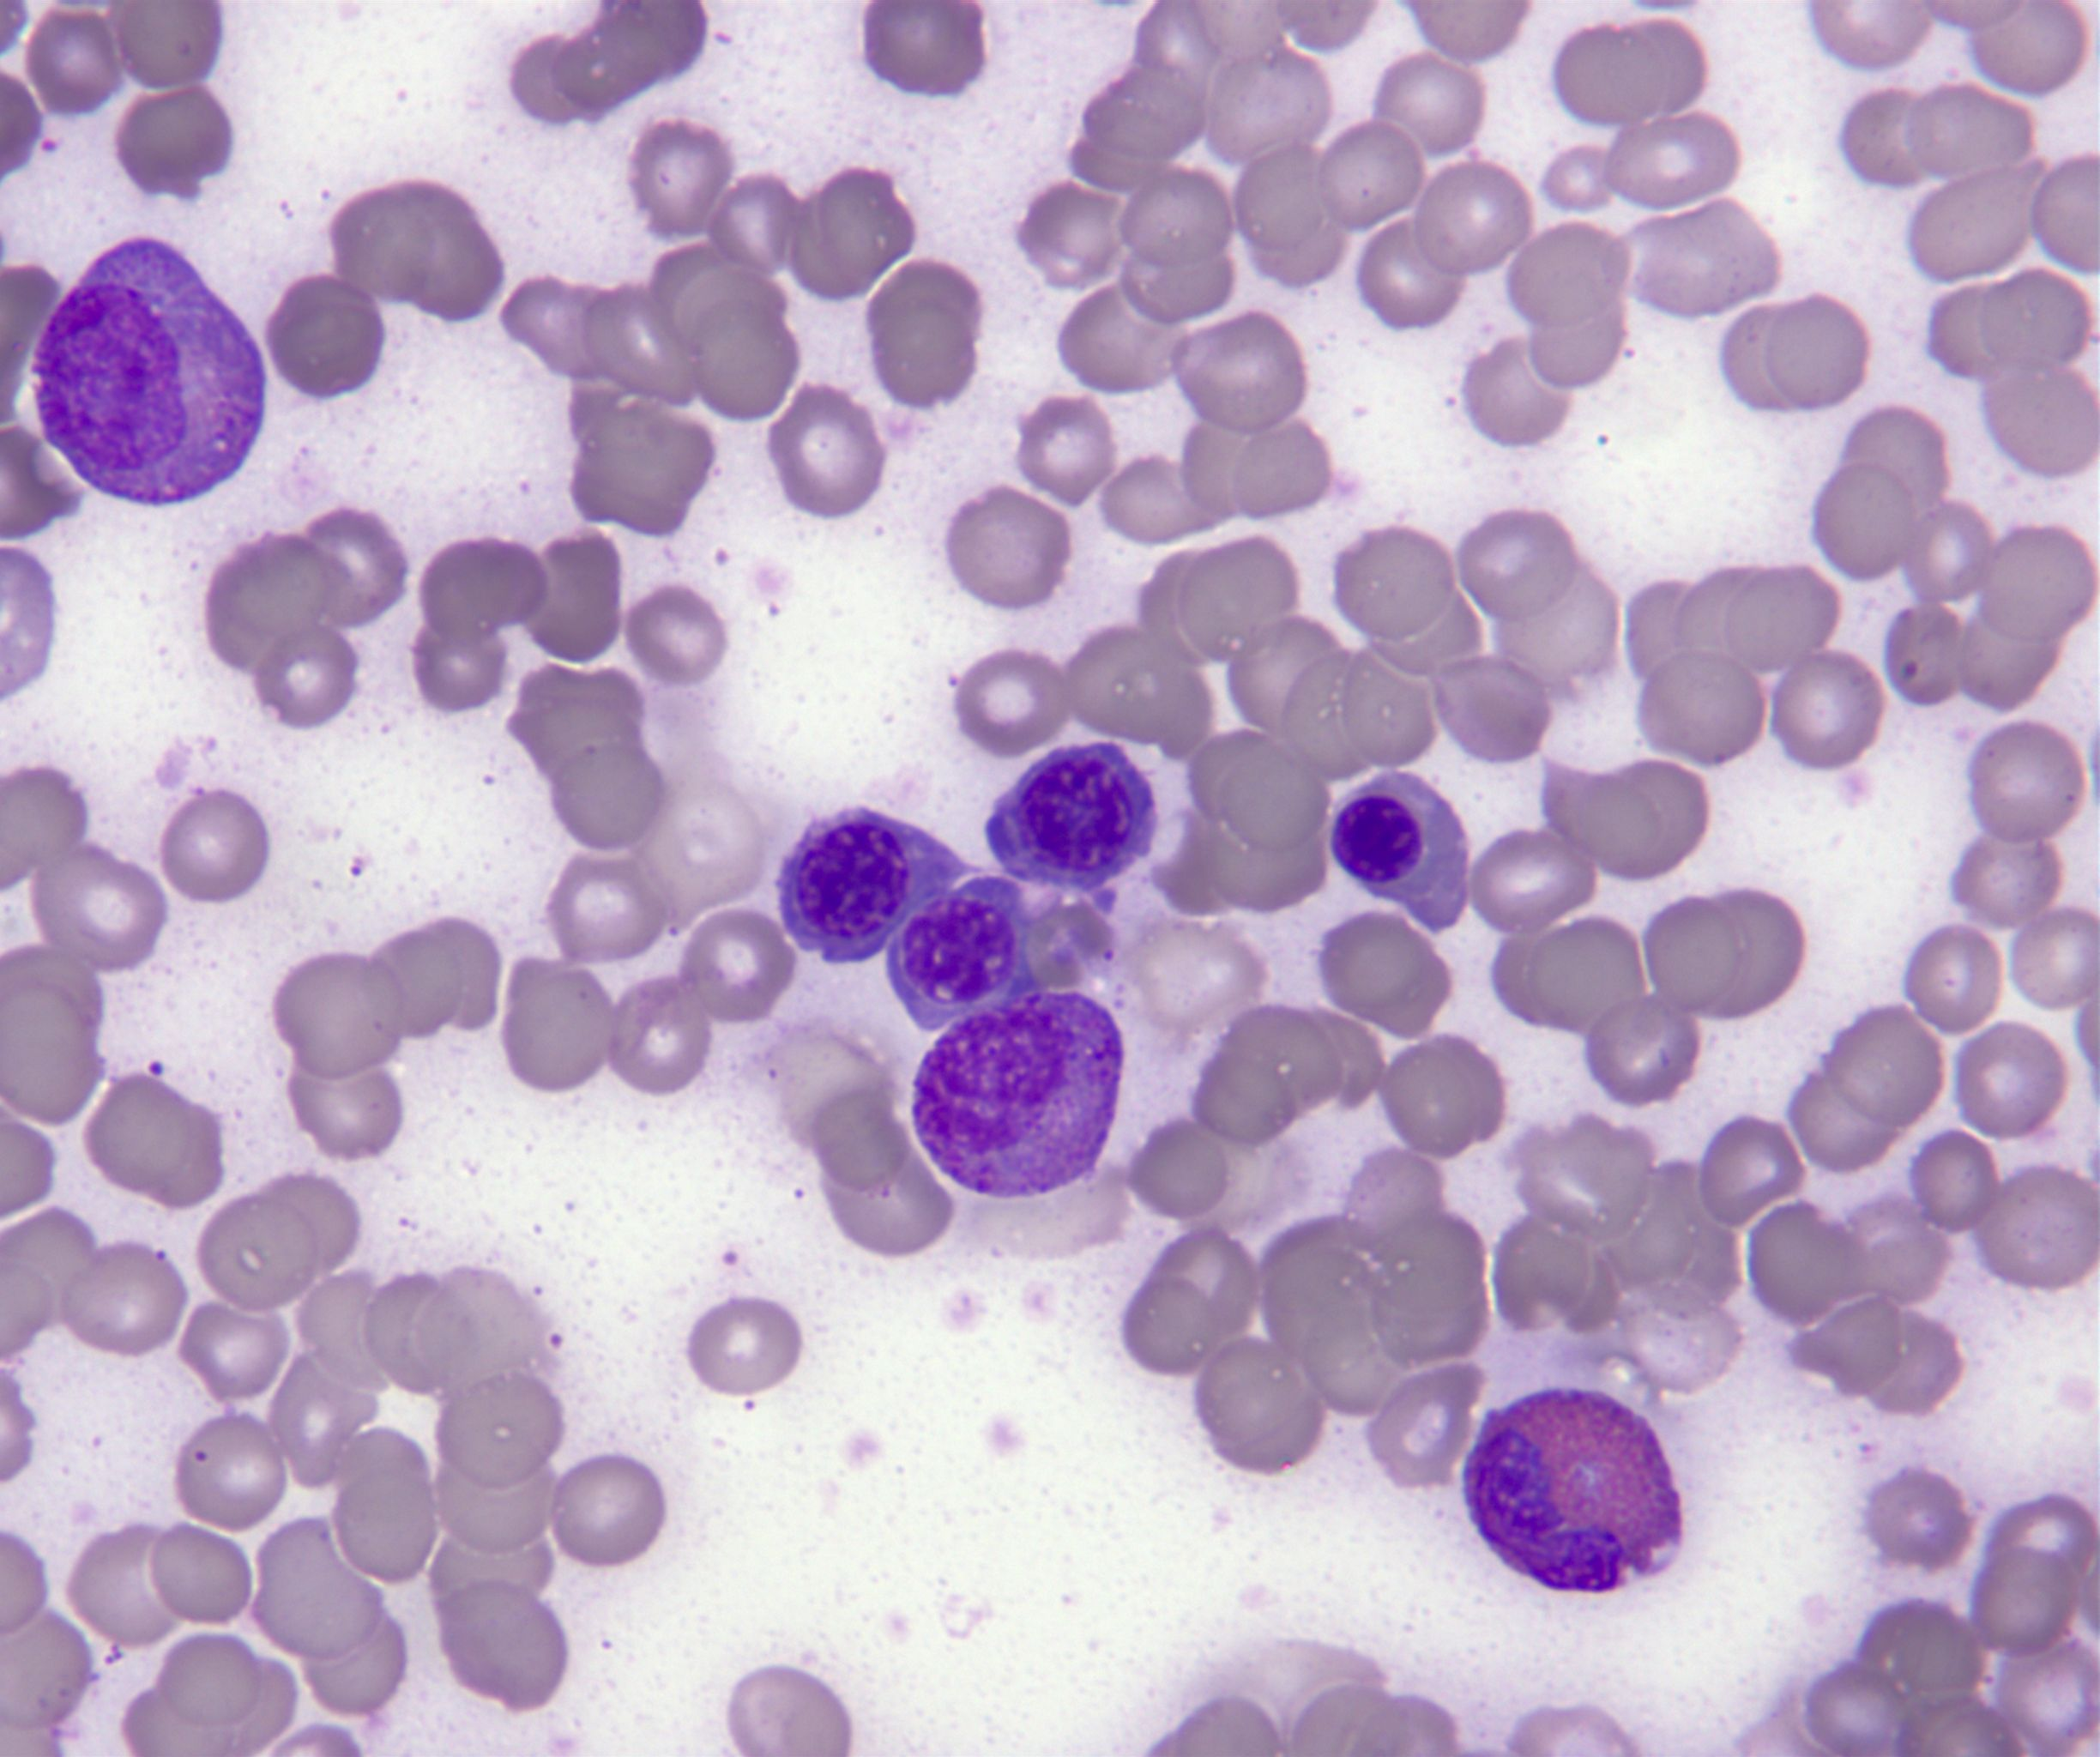23: (781, 808, 970, 960), (985, 742, 1156, 892), (888, 879, 1036, 1031)
24: (1324, 771, 1470, 935)
3: (33, 239, 267, 504), (910, 995, 1122, 1200)
E3: (1465, 1391, 1681, 1593)
